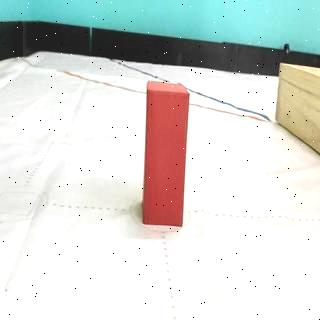redbox: (142, 78, 189, 225)
